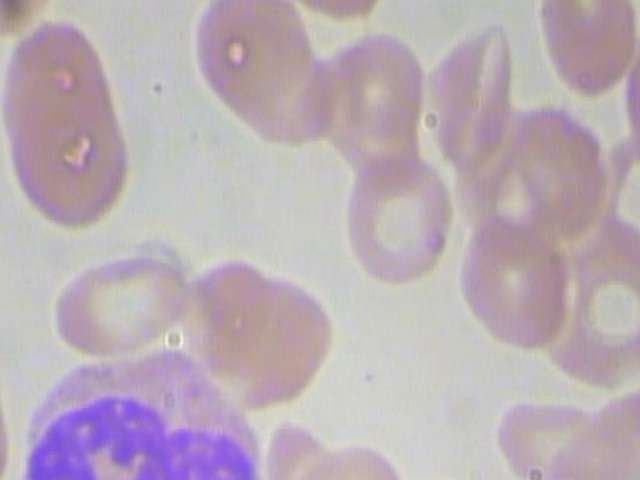RBC: (0, 86, 136, 229), (215, 271, 343, 413), (0, 3, 127, 146), (176, 0, 323, 121), (42, 245, 188, 364), (340, 152, 455, 299), (458, 212, 573, 359), (317, 26, 440, 154), (529, 0, 640, 99), (543, 382, 640, 480), (284, 434, 408, 480), (0, 342, 17, 480)
WBC: (16, 348, 272, 480)
